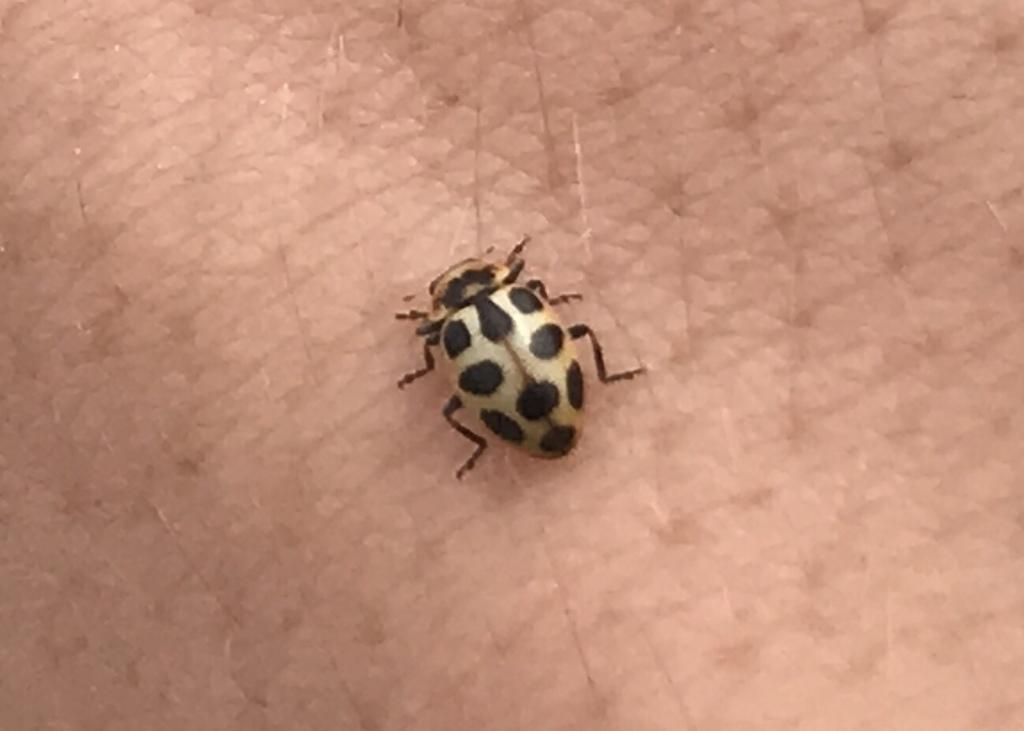ladybug: (395, 229, 649, 487)
